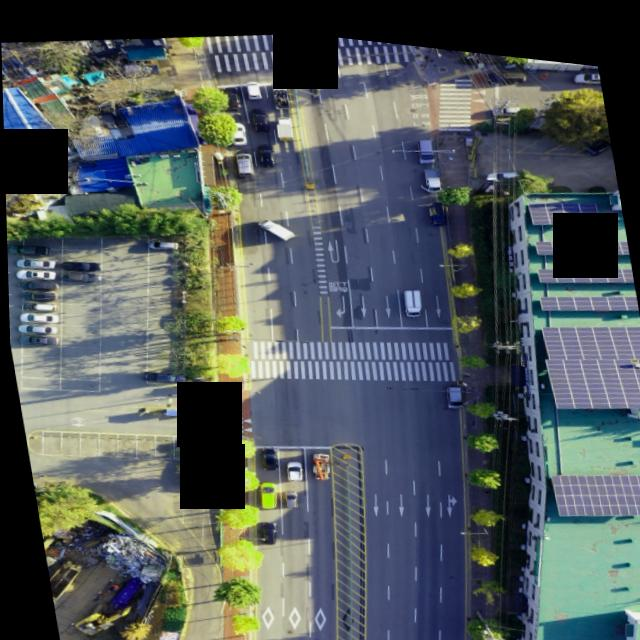car: (141, 362, 182, 382), (218, 77, 244, 107), (60, 267, 99, 286), (9, 241, 48, 258), (16, 263, 55, 280), (411, 126, 433, 156), (252, 472, 273, 502), (58, 255, 95, 272), (485, 155, 522, 172), (254, 514, 278, 540), (19, 276, 55, 293), (232, 143, 253, 172), (19, 309, 56, 325), (16, 330, 53, 346), (14, 253, 51, 269), (441, 370, 462, 398), (19, 321, 54, 337), (22, 286, 55, 302), (22, 297, 55, 312), (257, 439, 276, 464), (489, 90, 520, 105), (585, 124, 612, 141), (278, 456, 297, 479), (281, 453, 300, 475), (256, 137, 274, 160), (250, 104, 268, 127), (230, 116, 247, 140), (571, 55, 600, 69), (244, 72, 261, 93), (147, 235, 176, 247), (279, 483, 295, 502)
medium_truck: (43, 552, 87, 607)
small_truck: (255, 208, 295, 238), (398, 276, 426, 308), (271, 104, 298, 137), (269, 71, 294, 105), (487, 54, 529, 74), (304, 441, 329, 474), (419, 156, 441, 184), (425, 190, 445, 216)
